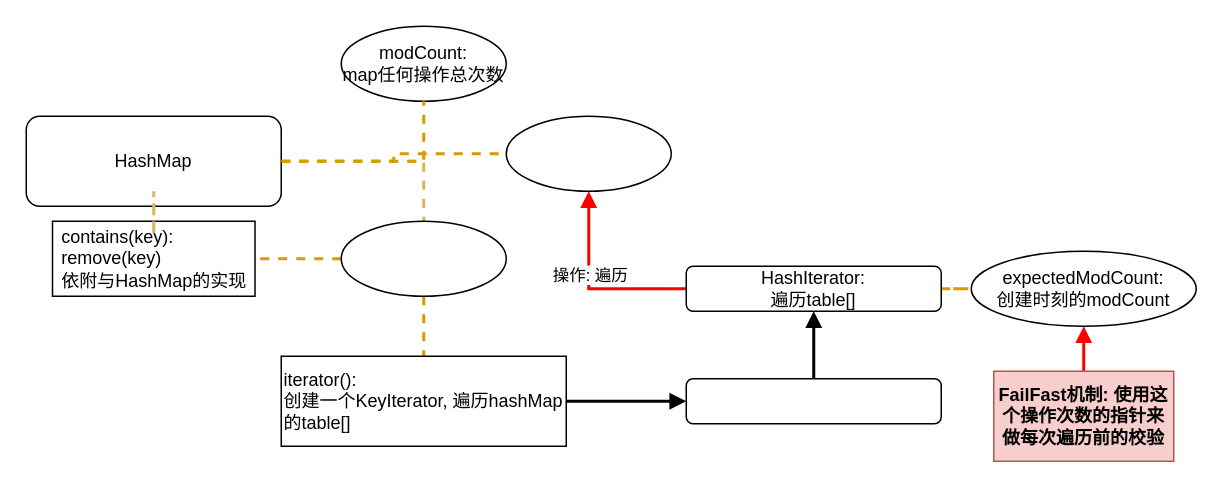
Image size: 1223x488. Some labels were removed from this diagram. The centre of each missing label's shape, as x and y in pixels:
KeyIterator:取node的key: the point at 813,400
keySet: 依附型的set: the point at 423,258
table[]: the point at 588,153
